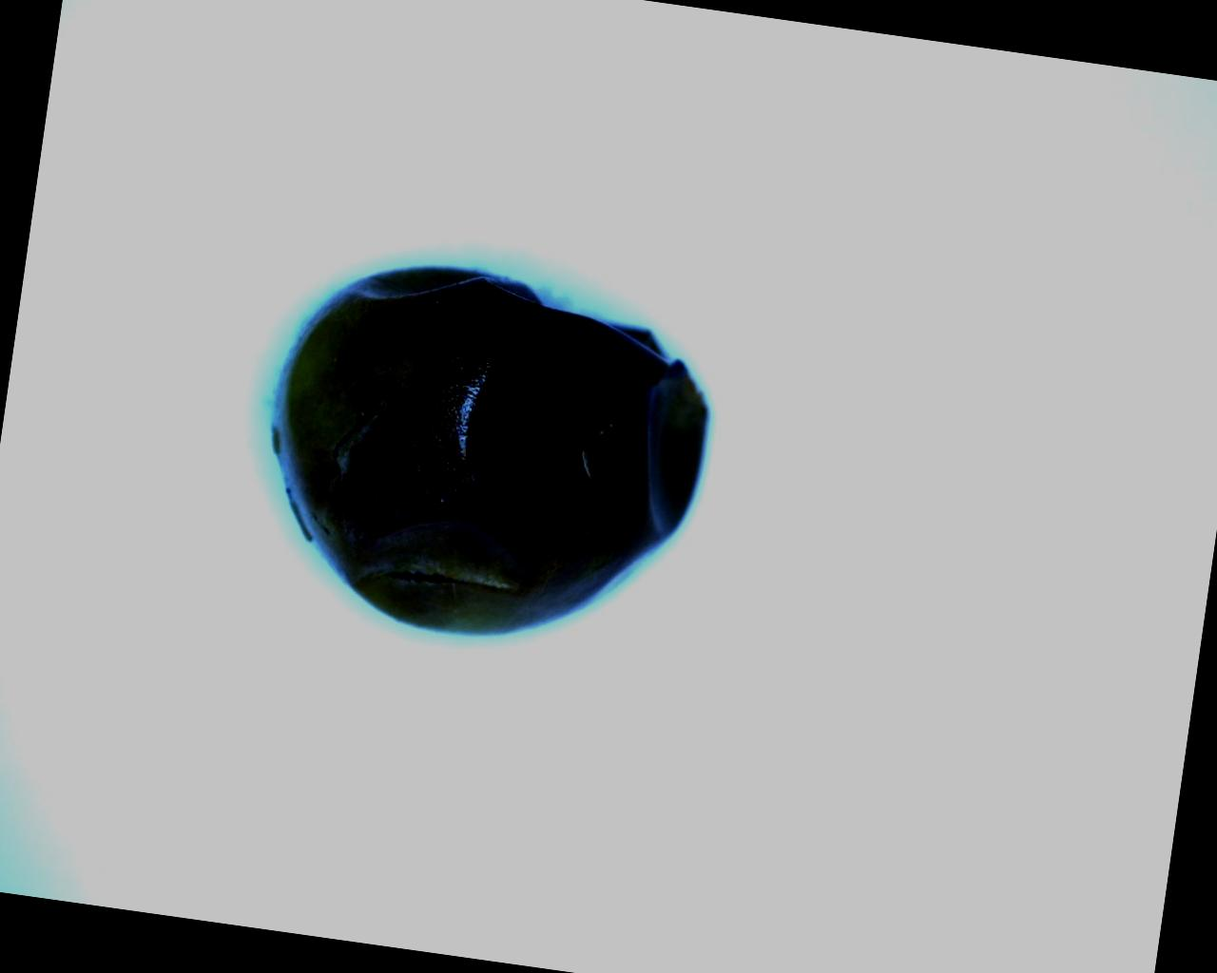Grape Rotten: (243, 241, 727, 666)
